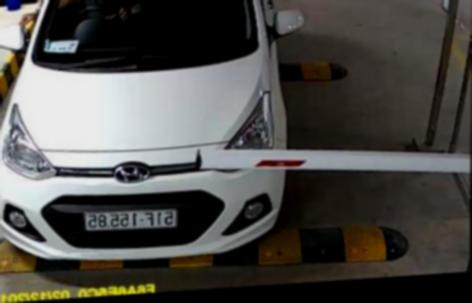License_Plate: (82, 201, 180, 241)
